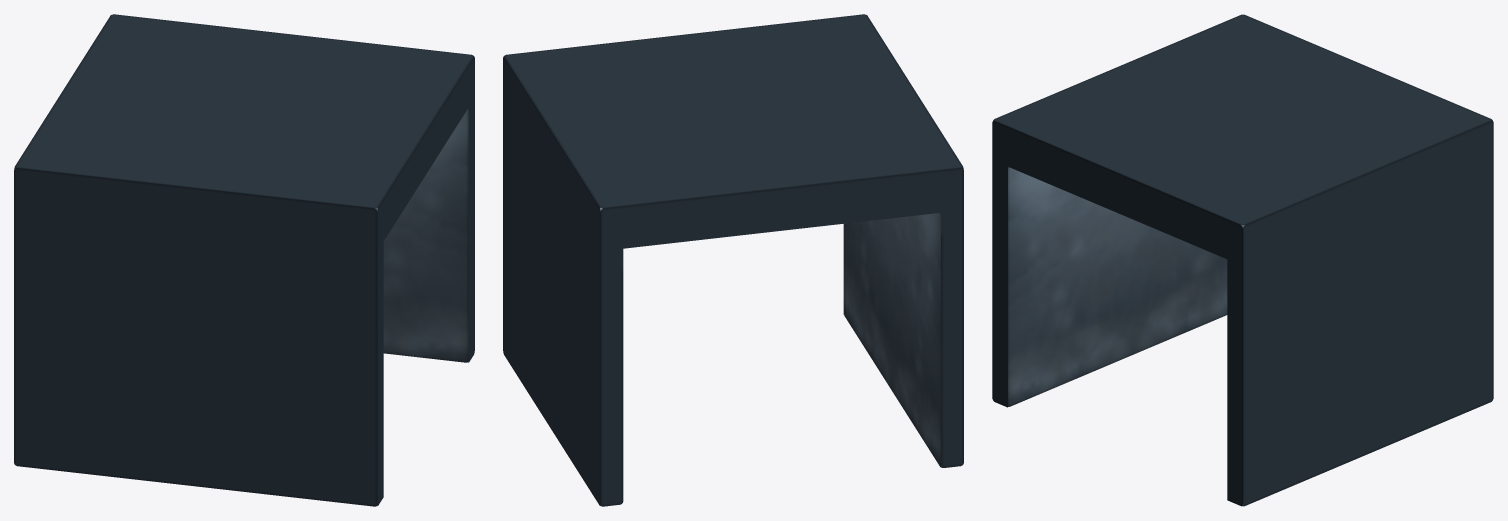
Rendered from tunnelNew.fbx.
3 renders of one model, left to right at view 1: azimuth 30°, elevation 25°; view 2: azimuth 150°, elevation 25°; view 3: azimuth 270°, elevation 25°, orthographic. The views are drawn at different scales.
Visible parts, largest first — view 1: cuboid; view 2: cuboid; view 3: cuboid.
Boxes of the visible parts, x1,y1,x2,y2 form: cuboid: (14, 14, 474, 506); cuboid: (503, 14, 963, 506); cuboid: (992, 14, 1493, 506).
Size of the model in its own units: 2.21 by 1.37 by 2.21.
1 material, 1 textured.
